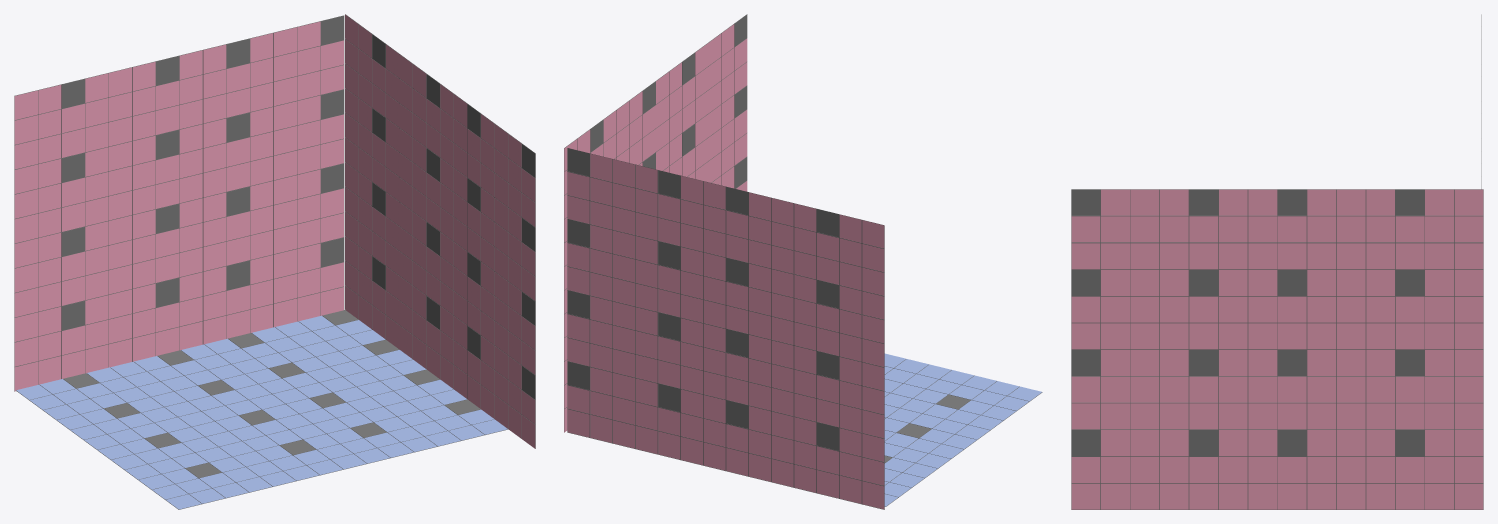
The model's file is jamiveskinurkkaseinat.fbx.
3 renders of one model, left to right at view 1: azimuth 30°, elevation 25°; view 2: azimuth 150°, elevation 25°; view 3: azimuth 270°, elevation 25°, orthographic. The views are drawn at different scales.
Visible parts, largest first — view 1: Plane; view 2: Plane; view 3: Plane.
Part boxes in pixels (bbox=[...]): Plane: bbox=[14, 14, 535, 509]; Plane: bbox=[564, 14, 1042, 509]; Plane: bbox=[1071, 14, 1483, 509].
Size of the model in its own units: 28.18 by 28 by 24.
